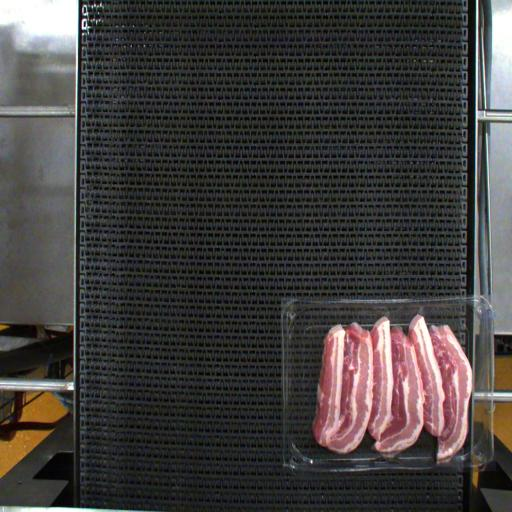packaging-error: (408, 296, 447, 340), (431, 442, 465, 480)
